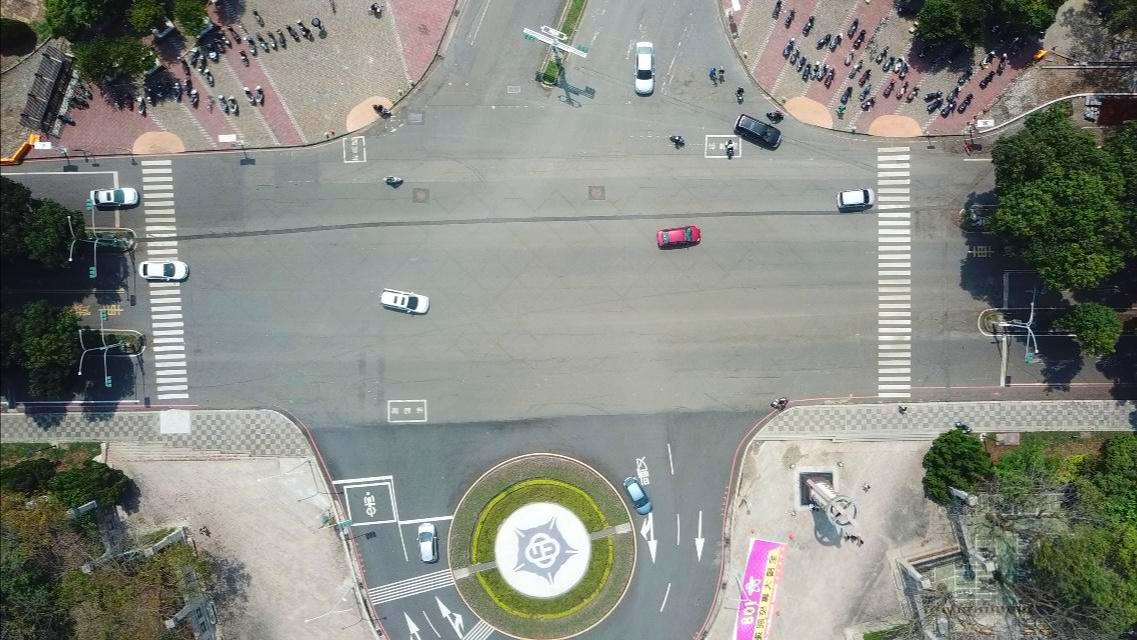vehicle: (734, 114, 781, 150), (378, 290, 429, 314), (622, 476, 652, 515), (139, 259, 189, 282), (634, 39, 653, 97), (89, 187, 139, 207), (656, 227, 700, 249), (415, 522, 437, 563), (836, 190, 875, 209)
